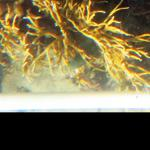alive: (9, 3, 149, 107)
